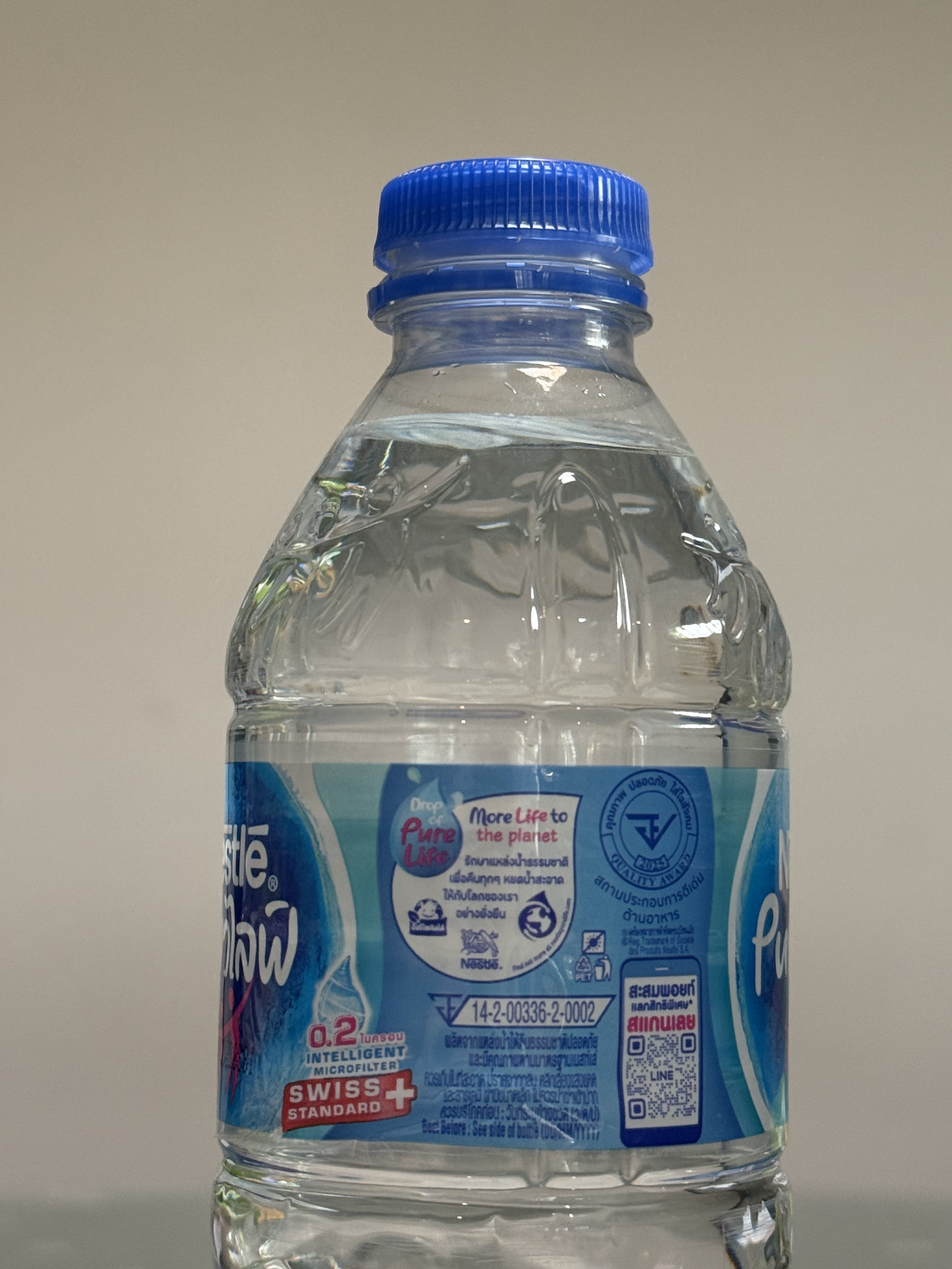half_cap: (361, 151, 659, 329)
